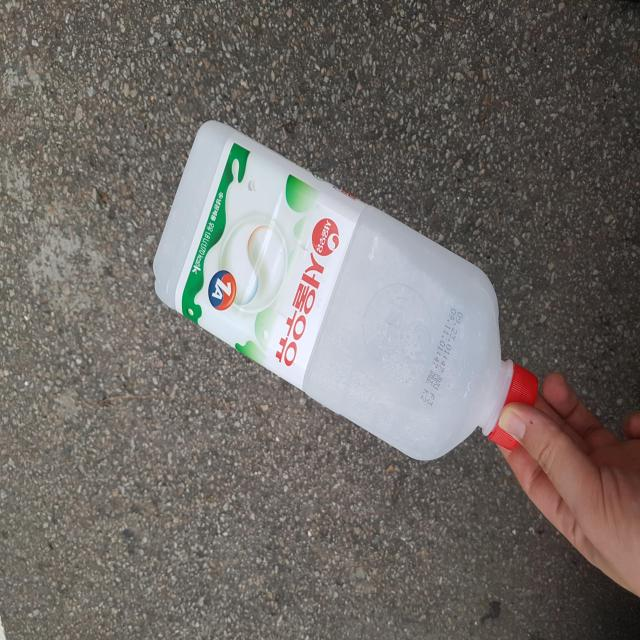bottle: (152, 116, 542, 467)
